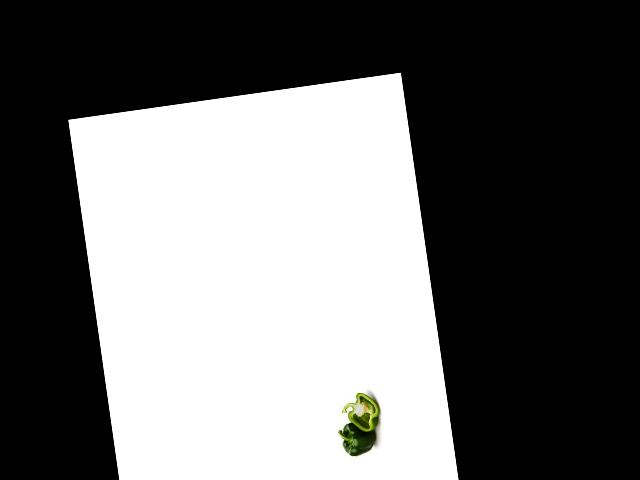bell_pepper: (338, 388, 381, 436)
